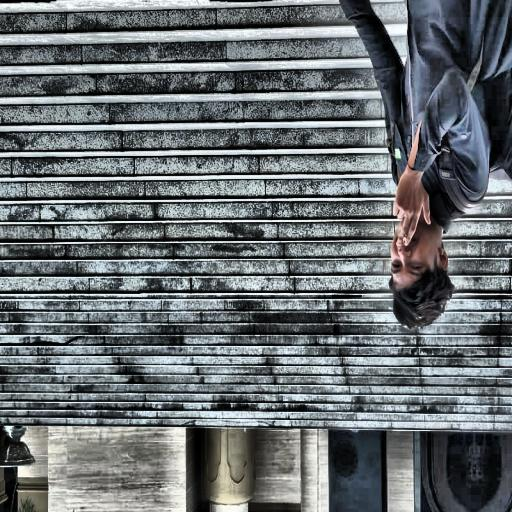Rokok: (391, 170, 448, 290)
